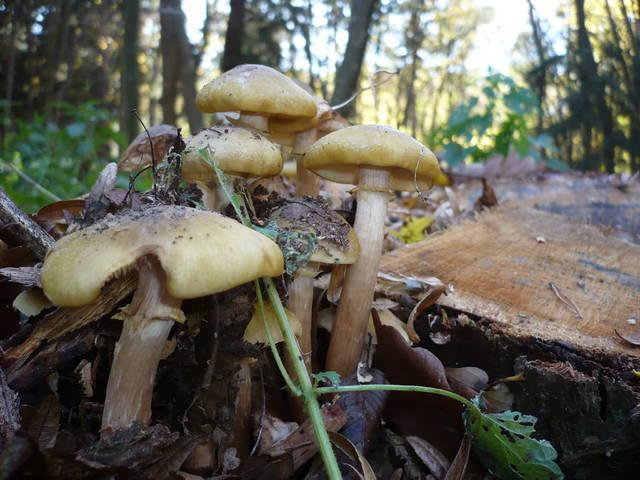edible_mushroom: (38, 203, 285, 439), (302, 122, 446, 379)
